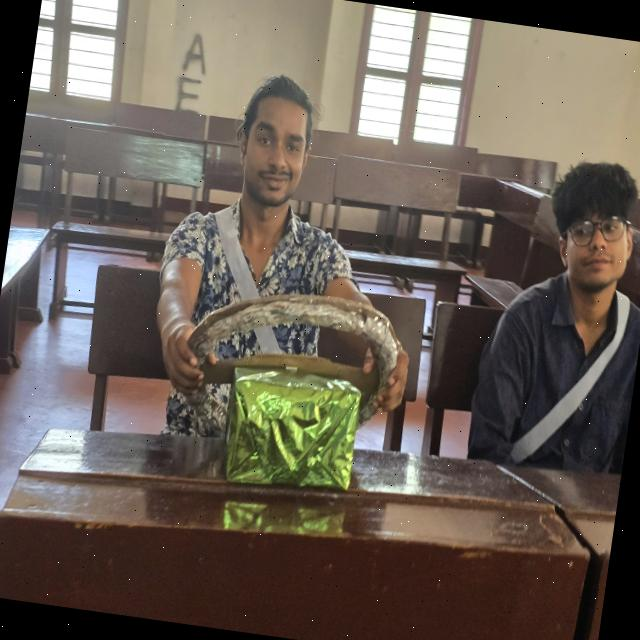seatbelt: (488, 257, 640, 491), (188, 202, 338, 430)
